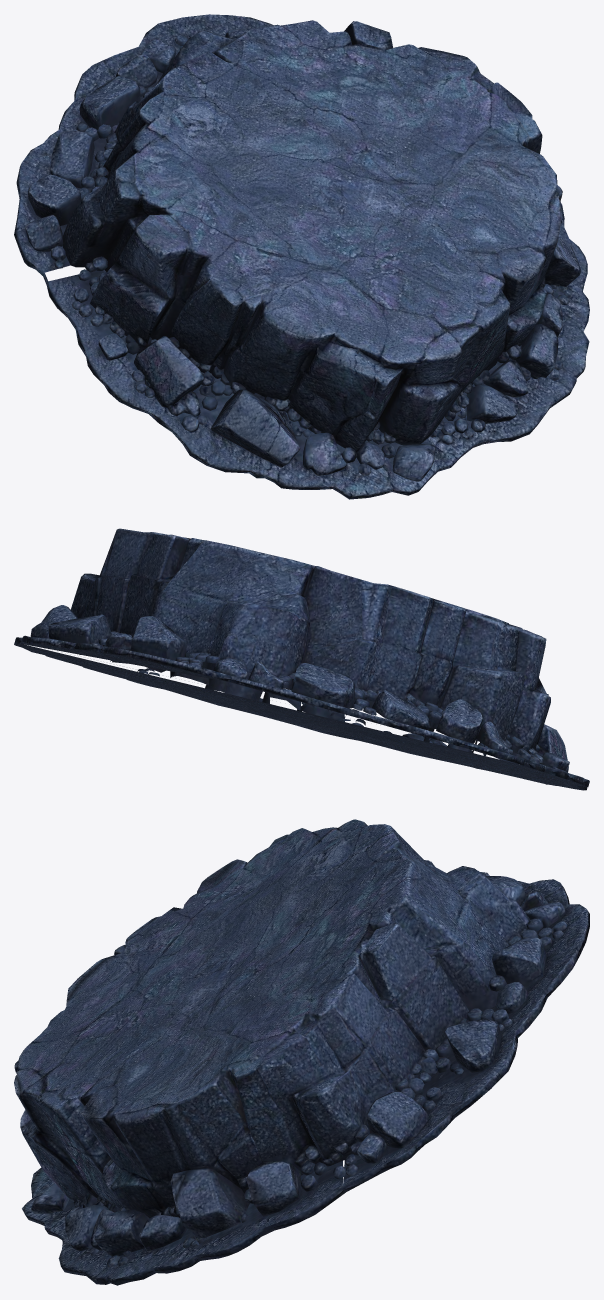
File: 10-dreamstone-base.glb
3 renders of one model, top to bottom at view 1: azimuth 30°, elevation 25°; view 2: azimuth 150°, elevation 25°; view 3: azimuth 270°, elevation 25°, orthographic. The views are drawn at different scales.
Visible parts, largest first — view 1: cd01dc15_2808_4ed2_b4f8_35af9306795b; view 2: cd01dc15_2808_4ed2_b4f8_35af9306795b; view 3: cd01dc15_2808_4ed2_b4f8_35af9306795b.
Part boxes in pixels (x1,y1,x2,y2): cd01dc15_2808_4ed2_b4f8_35af9306795b: (14,14,589,499); cd01dc15_2808_4ed2_b4f8_35af9306795b: (14,528,589,790); cd01dc15_2808_4ed2_b4f8_35af9306795b: (14,819,589,1285).
Size of the model in its own units: 0.9995 by 0.6333 by 0.9106.
1 material, 1 textured.
